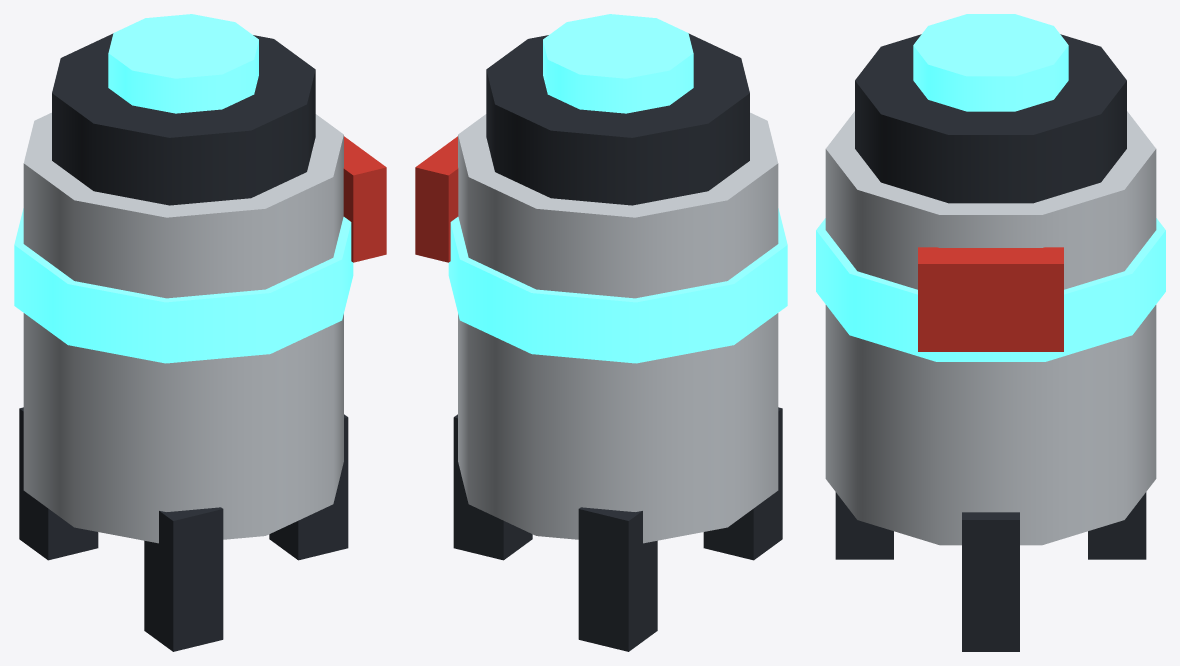
The model's file is shield_dome.glb.
3 views of the same model, side by side, from view 1: azimuth 30°, elevation 25°; view 2: azimuth 150°, elevation 25°; view 3: azimuth 270°, elevation 25° (orthographic).
Visible parts, largest first — view 1: _MeshInstance3D_4480, _MeshInstance3D_4482, _MeshInstance3D_4481, _MeshInstance3D_4483, _MeshInstance3D_4485, _MeshInstance3D_4487, _MeshInstance3D_4484, _MeshInstance3D_4486; view 2: _MeshInstance3D_4480, _MeshInstance3D_4482, _MeshInstance3D_4481, _MeshInstance3D_4483, _MeshInstance3D_4486, _MeshInstance3D_4487, _MeshInstance3D_4484, _MeshInstance3D_4485; view 3: _MeshInstance3D_4480, _MeshInstance3D_4482, _MeshInstance3D_4481, _MeshInstance3D_4487, _MeshInstance3D_4483, _MeshInstance3D_4484, _MeshInstance3D_4485, _MeshInstance3D_4486.
Boxes of the visible parts, x1,y1,x2,y2 form: _MeshInstance3D_4480: (23,112,343,543); _MeshInstance3D_4482: (52,33,315,205); _MeshInstance3D_4481: (14,208,353,363); _MeshInstance3D_4483: (108,14,258,113); _MeshInstance3D_4485: (144,507,223,651); _MeshInstance3D_4487: (343,136,386,262); _MeshInstance3D_4484: (269,414,348,560); _MeshInstance3D_4486: (19,407,98,560); _MeshInstance3D_4480: (458,112,778,543); _MeshInstance3D_4482: (486,33,749,205); _MeshInstance3D_4481: (448,208,787,363); _MeshInstance3D_4483: (543,14,693,113); _MeshInstance3D_4486: (578,507,657,651); _MeshInstance3D_4487: (415,136,458,262); _MeshInstance3D_4484: (453,414,532,560); _MeshInstance3D_4485: (703,407,782,560); _MeshInstance3D_4480: (825,111,1156,545); _MeshInstance3D_4482: (855,34,1126,203); _MeshInstance3D_4481: (816,218,1165,361); _MeshInstance3D_4487: (918,247,1063,351); _MeshInstance3D_4483: (913,14,1068,111); _MeshInstance3D_4484: (962,512,1019,651); _MeshInstance3D_4485: (835,492,893,559); _MeshInstance3D_4486: (1088,492,1146,559).
Size of the model in its own units: 0.1188 by 0.1936 by 0.1152.
